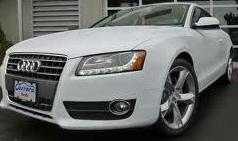front_view: (1, 40, 167, 131)
headlight: (74, 50, 147, 77)
side_glass: (189, 7, 224, 31)
